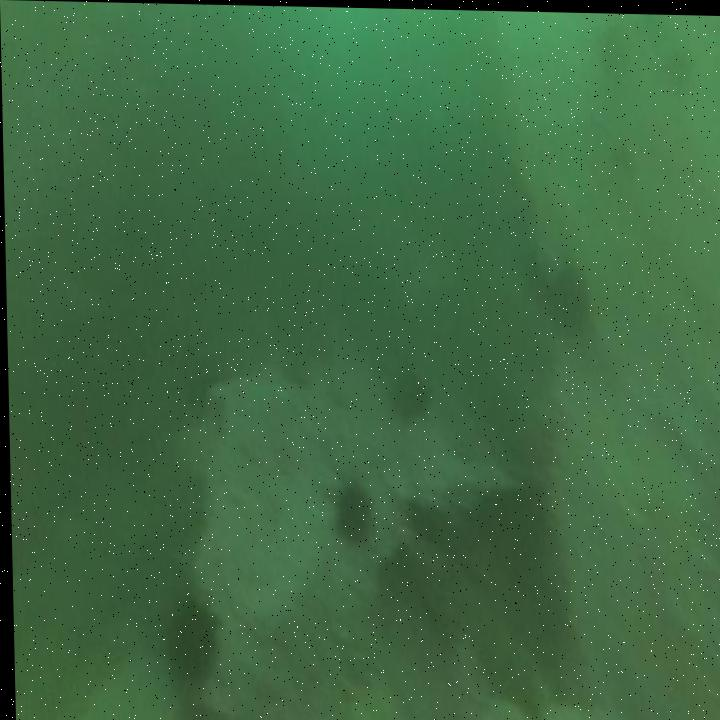echinus: (155, 589, 219, 690), (543, 255, 592, 339), (327, 472, 374, 550), (595, 12, 638, 87), (389, 361, 431, 423)
